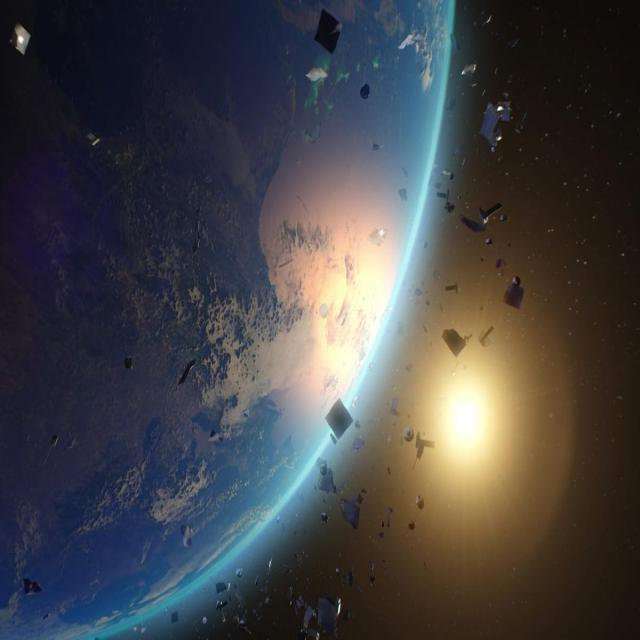large_debris: (480, 101, 510, 151), (325, 400, 354, 440), (316, 10, 342, 53), (318, 593, 341, 636), (442, 329, 473, 358), (412, 432, 435, 470), (340, 494, 360, 529), (503, 276, 524, 309), (175, 359, 197, 390), (9, 21, 29, 55), (479, 203, 502, 224), (43, 435, 58, 465), (192, 207, 201, 255), (460, 216, 486, 232), (317, 466, 333, 491), (478, 325, 496, 347), (367, 228, 389, 246), (23, 579, 43, 597), (517, 106, 530, 133), (305, 67, 328, 82), (461, 61, 478, 79), (371, 136, 383, 158), (303, 606, 314, 630), (387, 397, 400, 417), (181, 524, 192, 547), (234, 586, 245, 609), (238, 619, 252, 637), (208, 428, 224, 442), (351, 438, 365, 454), (446, 97, 459, 114), (86, 131, 100, 146), (450, 33, 459, 55), (334, 482, 347, 494), (315, 456, 328, 468), (387, 507, 394, 529), (360, 84, 370, 99), (214, 582, 226, 594), (508, 37, 521, 48), (215, 602, 228, 613), (445, 200, 456, 213), (404, 427, 413, 442), (415, 495, 424, 510), (446, 282, 458, 293), (297, 596, 306, 610), (286, 588, 293, 606), (443, 169, 454, 180), (482, 14, 492, 26), (398, 189, 408, 201), (308, 630, 320, 640), (452, 362, 460, 377), (283, 565, 292, 578), (397, 321, 404, 337), (342, 610, 350, 624), (496, 259, 507, 269), (124, 356, 132, 369), (348, 572, 354, 588), (171, 610, 178, 623), (268, 558, 273, 575), (330, 433, 337, 445), (452, 146, 461, 155), (322, 513, 329, 524), (434, 270, 441, 281), (405, 364, 413, 373), (352, 396, 358, 408), (415, 287, 423, 296), (202, 614, 207, 628), (409, 522, 416, 532), (254, 576, 259, 589), (498, 270, 506, 278), (42, 614, 50, 622), (298, 495, 306, 503), (367, 363, 374, 372), (355, 419, 361, 429), (236, 569, 242, 579), (437, 192, 447, 198), (356, 588, 364, 595), (140, 627, 147, 635), (461, 158, 466, 169), (439, 303, 445, 312), (388, 429, 392, 442), (358, 495, 363, 505), (486, 238, 492, 246), (472, 82, 478, 90), (294, 555, 302, 561), (410, 396, 414, 408), (370, 561, 374, 573), (387, 466, 392, 475), (403, 168, 408, 177), (379, 532, 385, 539), (507, 241, 512, 249), (423, 561, 427, 571), (482, 88, 486, 98), (402, 278, 406, 288), (265, 598, 270, 606), (370, 578, 375, 586), (342, 576, 346, 586), (281, 524, 285, 534), (336, 568, 340, 577), (436, 183, 442, 189), (302, 529, 307, 536), (494, 66, 498, 74), (424, 240, 428, 248), (276, 517, 280, 525), (501, 215, 506, 221), (480, 256, 485, 262), (479, 305, 483, 312), (362, 490, 367, 495), (433, 163, 438, 168), (264, 587, 267, 595), (133, 627, 137, 633), (382, 522, 385, 529), (458, 195, 462, 200), (400, 437, 402, 446), (314, 486, 317, 492), (228, 584, 230, 592), (294, 532, 297, 537), (383, 561, 386, 565), (295, 514, 298, 518), (427, 301, 430, 305), (323, 500, 326, 503), (449, 190, 450, 195), (261, 590, 263, 592)
